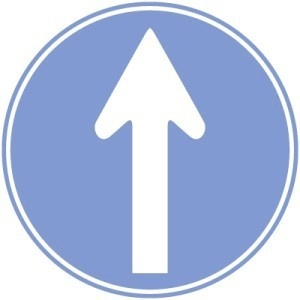Direction_sign: (4, 3, 298, 296)
